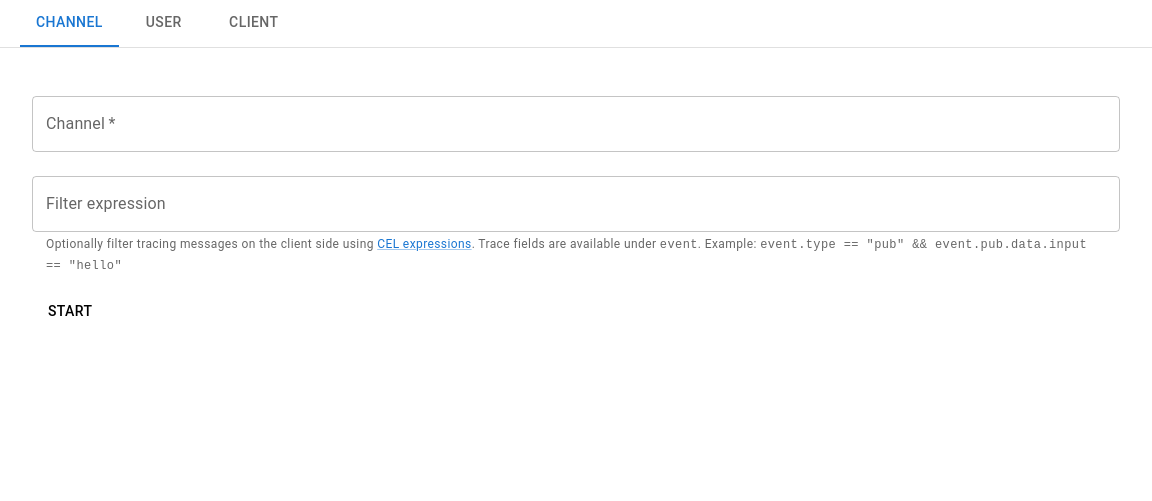
Tracing stream decoding › renders a message whose UTF-8 payload is split across chunks
The width and height of the screenshot is (1152, 501).
Type "test" into the field named "channel" at point(576, 124), box [32, 96, 1120, 152]
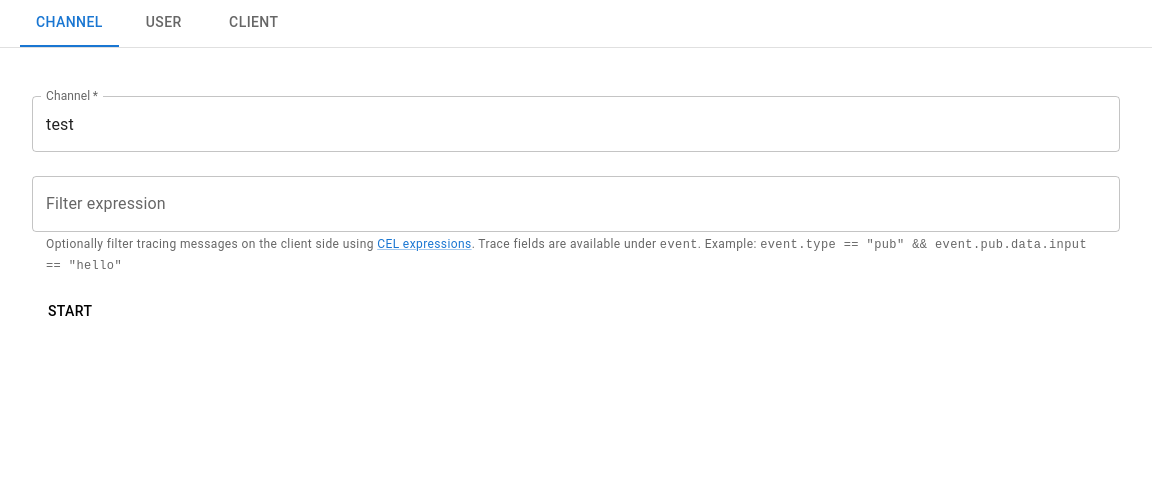
Click the button "Start" at point(70, 311), box [32, 293, 108, 329]
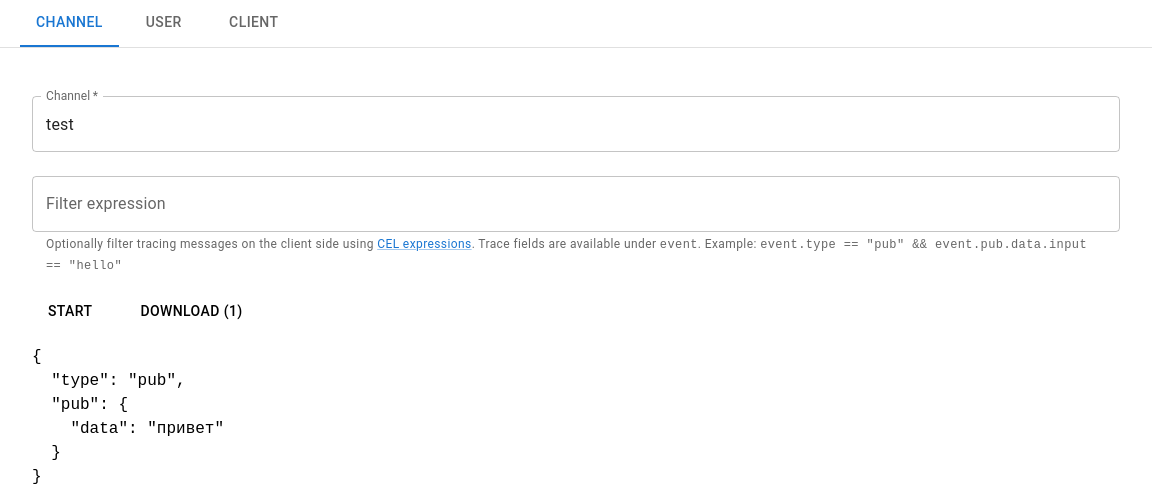
Check: the text "привет" is shown, box [147, 420, 224, 438]
